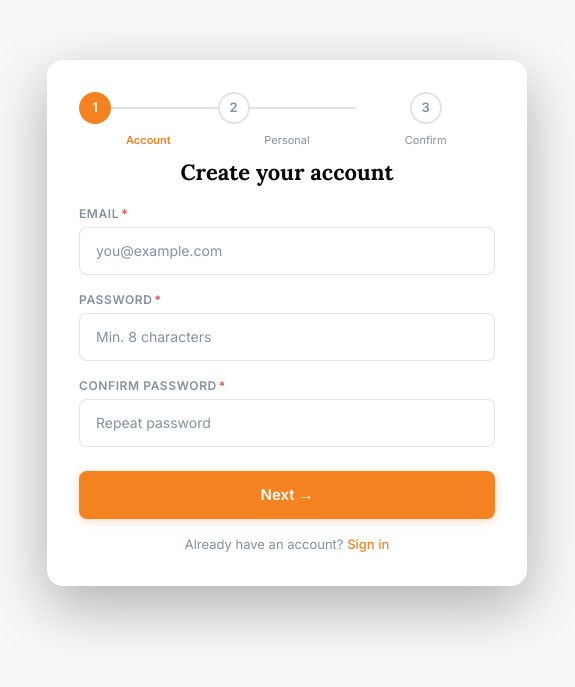
Test case: Register component › shows invalid email error
Type "notanemail" into the field with placeholder "you@example.com" at (287, 251), box [79, 227, 495, 275]
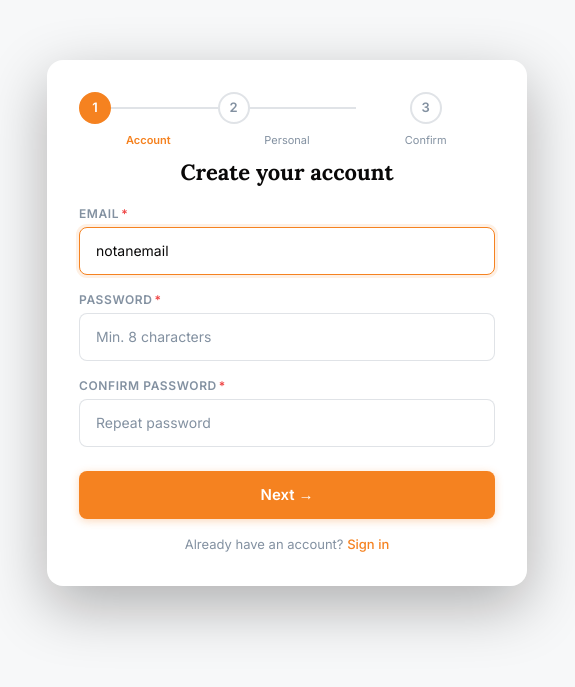
Click the button "Next →" at (287, 495), box [79, 471, 495, 519]
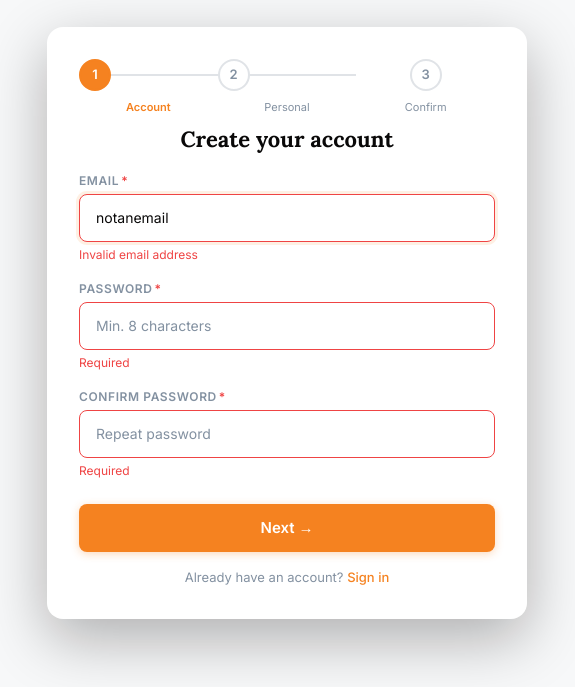
Expected: the text "Invalid email address" is shown, [79, 247, 198, 262]
